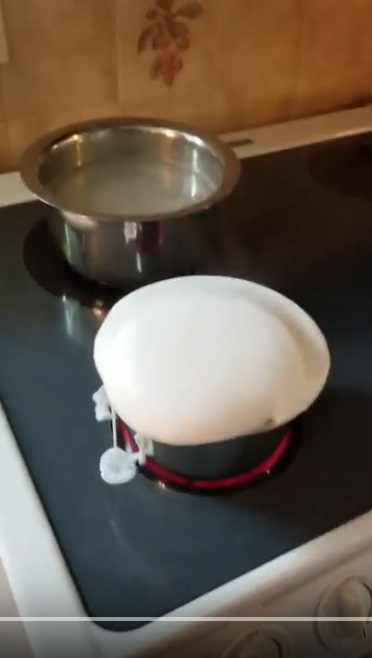Boiled: (77, 264, 319, 500)
